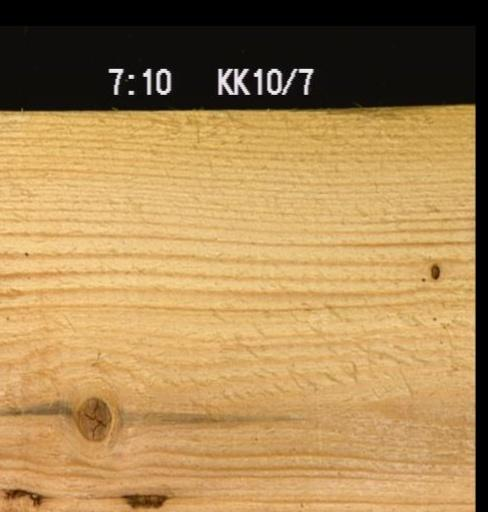dry_knot: (428, 260, 439, 281)
sound_knot: (75, 394, 109, 439)
